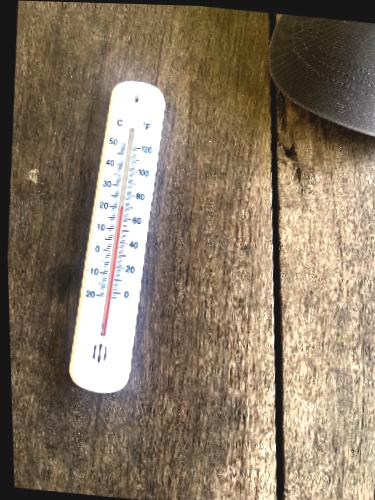thermo: (67, 79, 172, 391)
